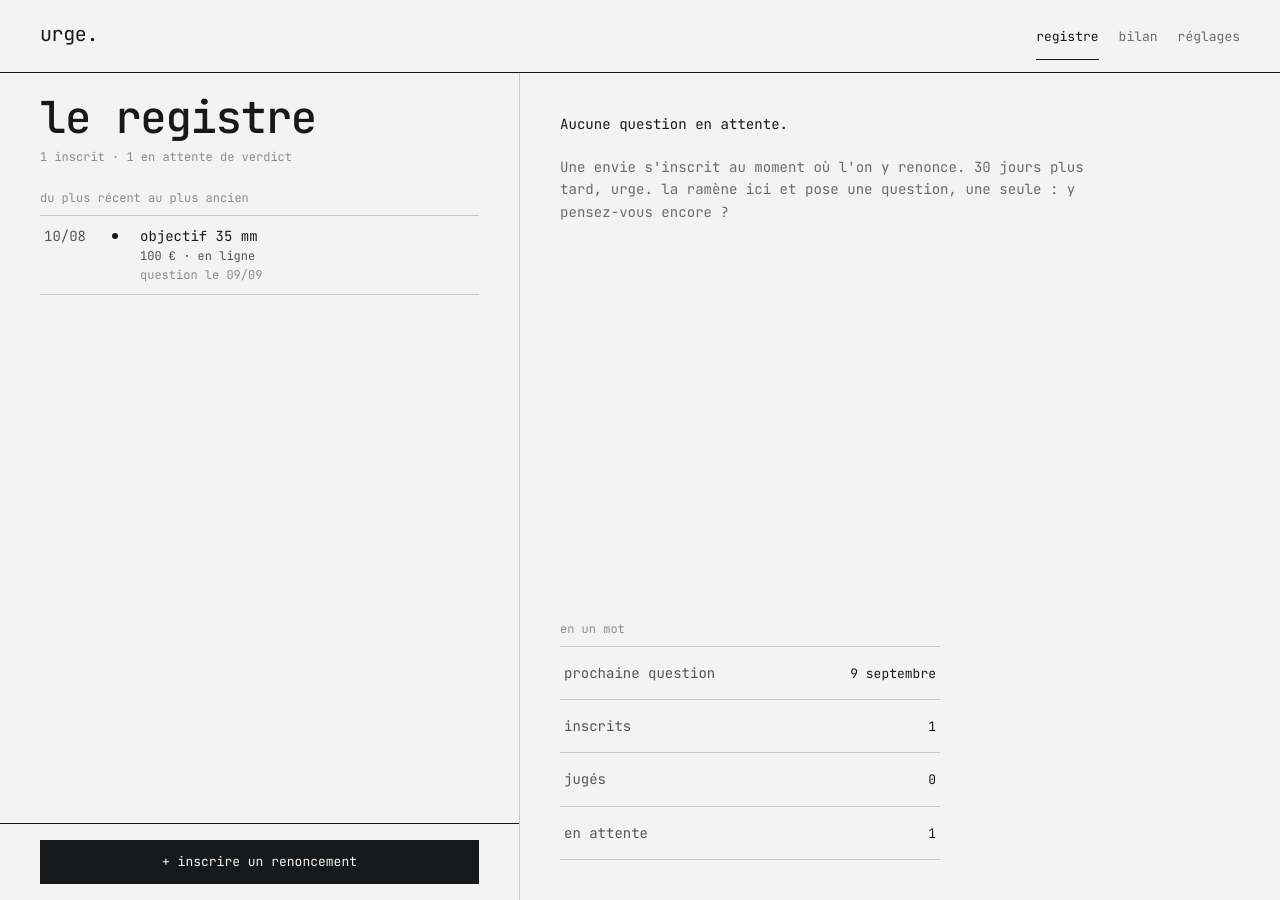
Test: les réglages › changent le délai sans déplacer une question déjà promise
What coordinates should you click on to do the following:
click the button "réglages"
I would click on:
 (1209, 38)
Its box is [1178,16,1240,60].
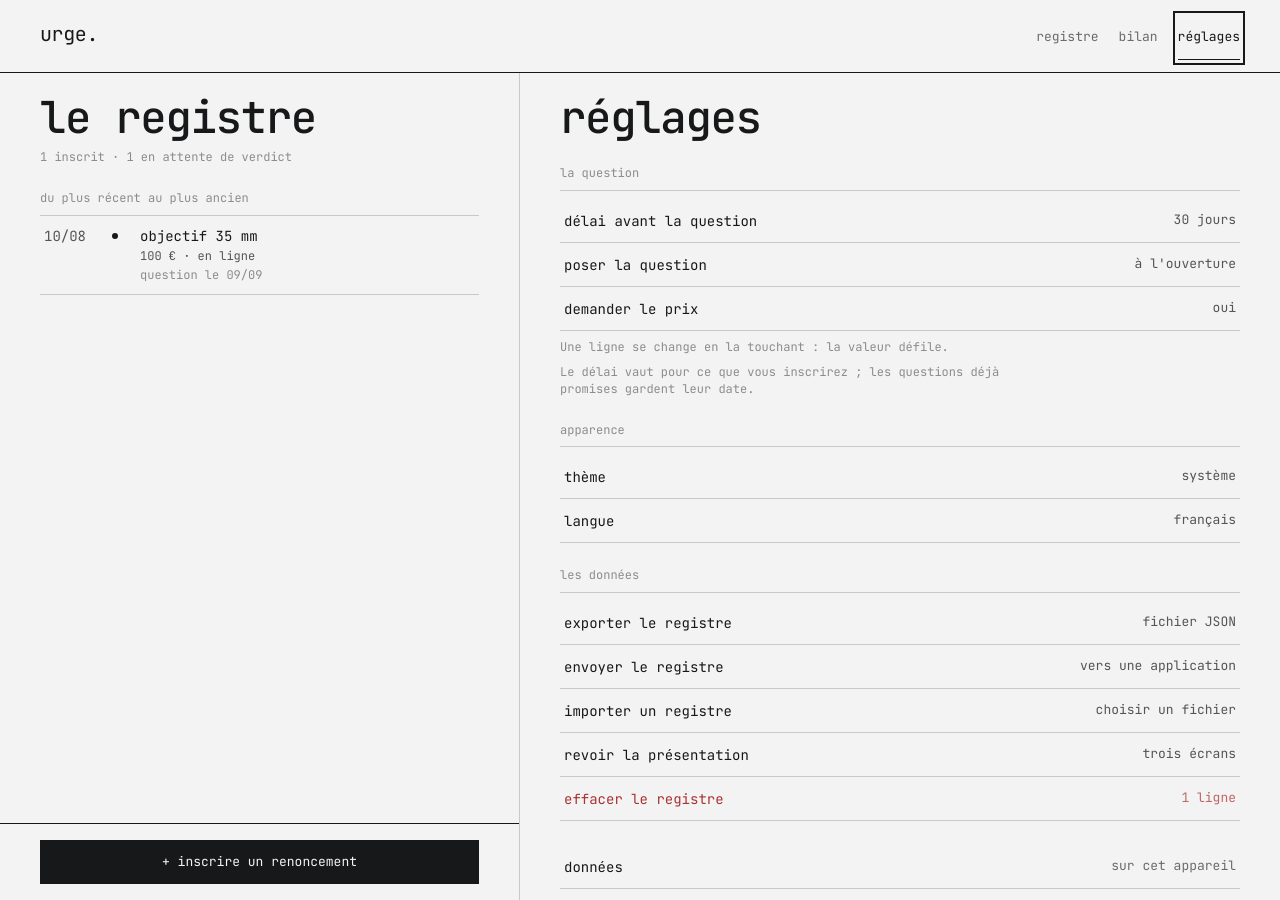
What coordinates should you click on to do the following:
click the button with aria-label "délai avant la question : 30 jours"
I would click on:
 (661, 221)
Its box is [560,199,1240,243].
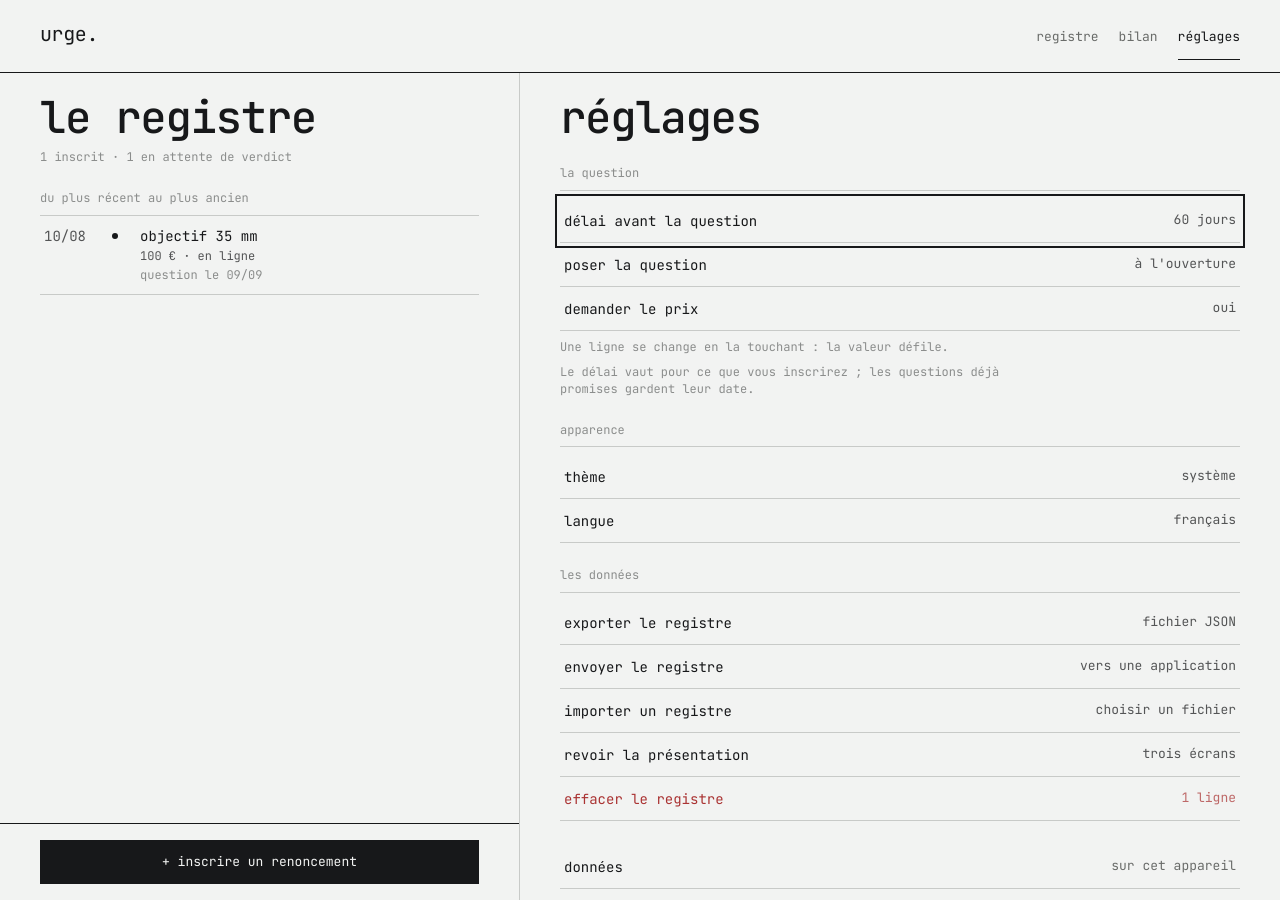
Expected: the button with aria-label "délai avant la question : 60 jours" is shown, [560,199,1240,243]
What coordinates should you click on to do the following:
click the button "registre"
I would click on:
 (1067, 38)
Its box is [1036,16,1099,60].
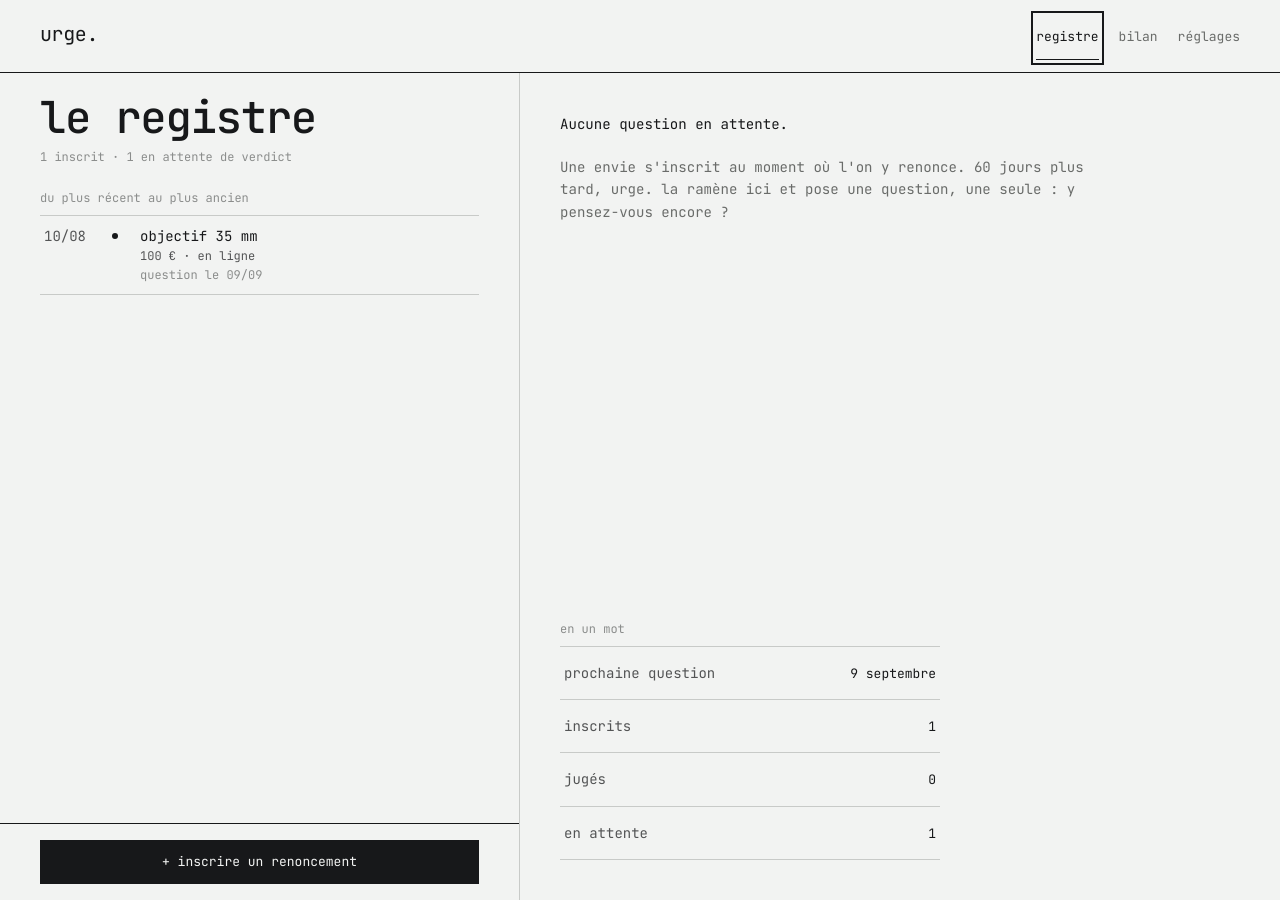
What coordinates should you click on to do the following:
click the button with aria-label "objectif 35 mm, inscrit le"
I would click on:
 (65, 236)
Its box is [40,216,479,294].
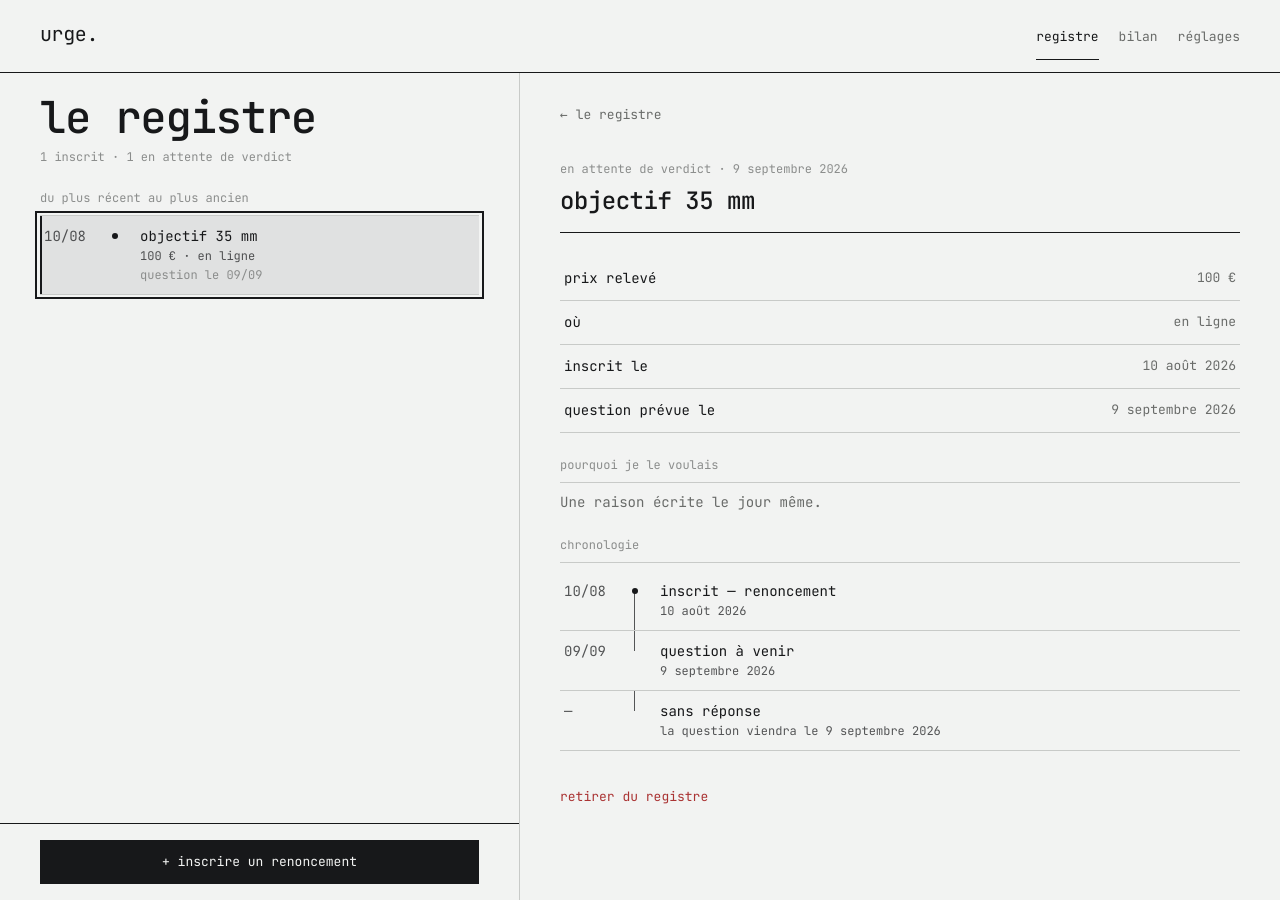
Expected: the text "9 septembre 2026" in the row of "question prévue le" is shown, [1111,401,1236,418]
